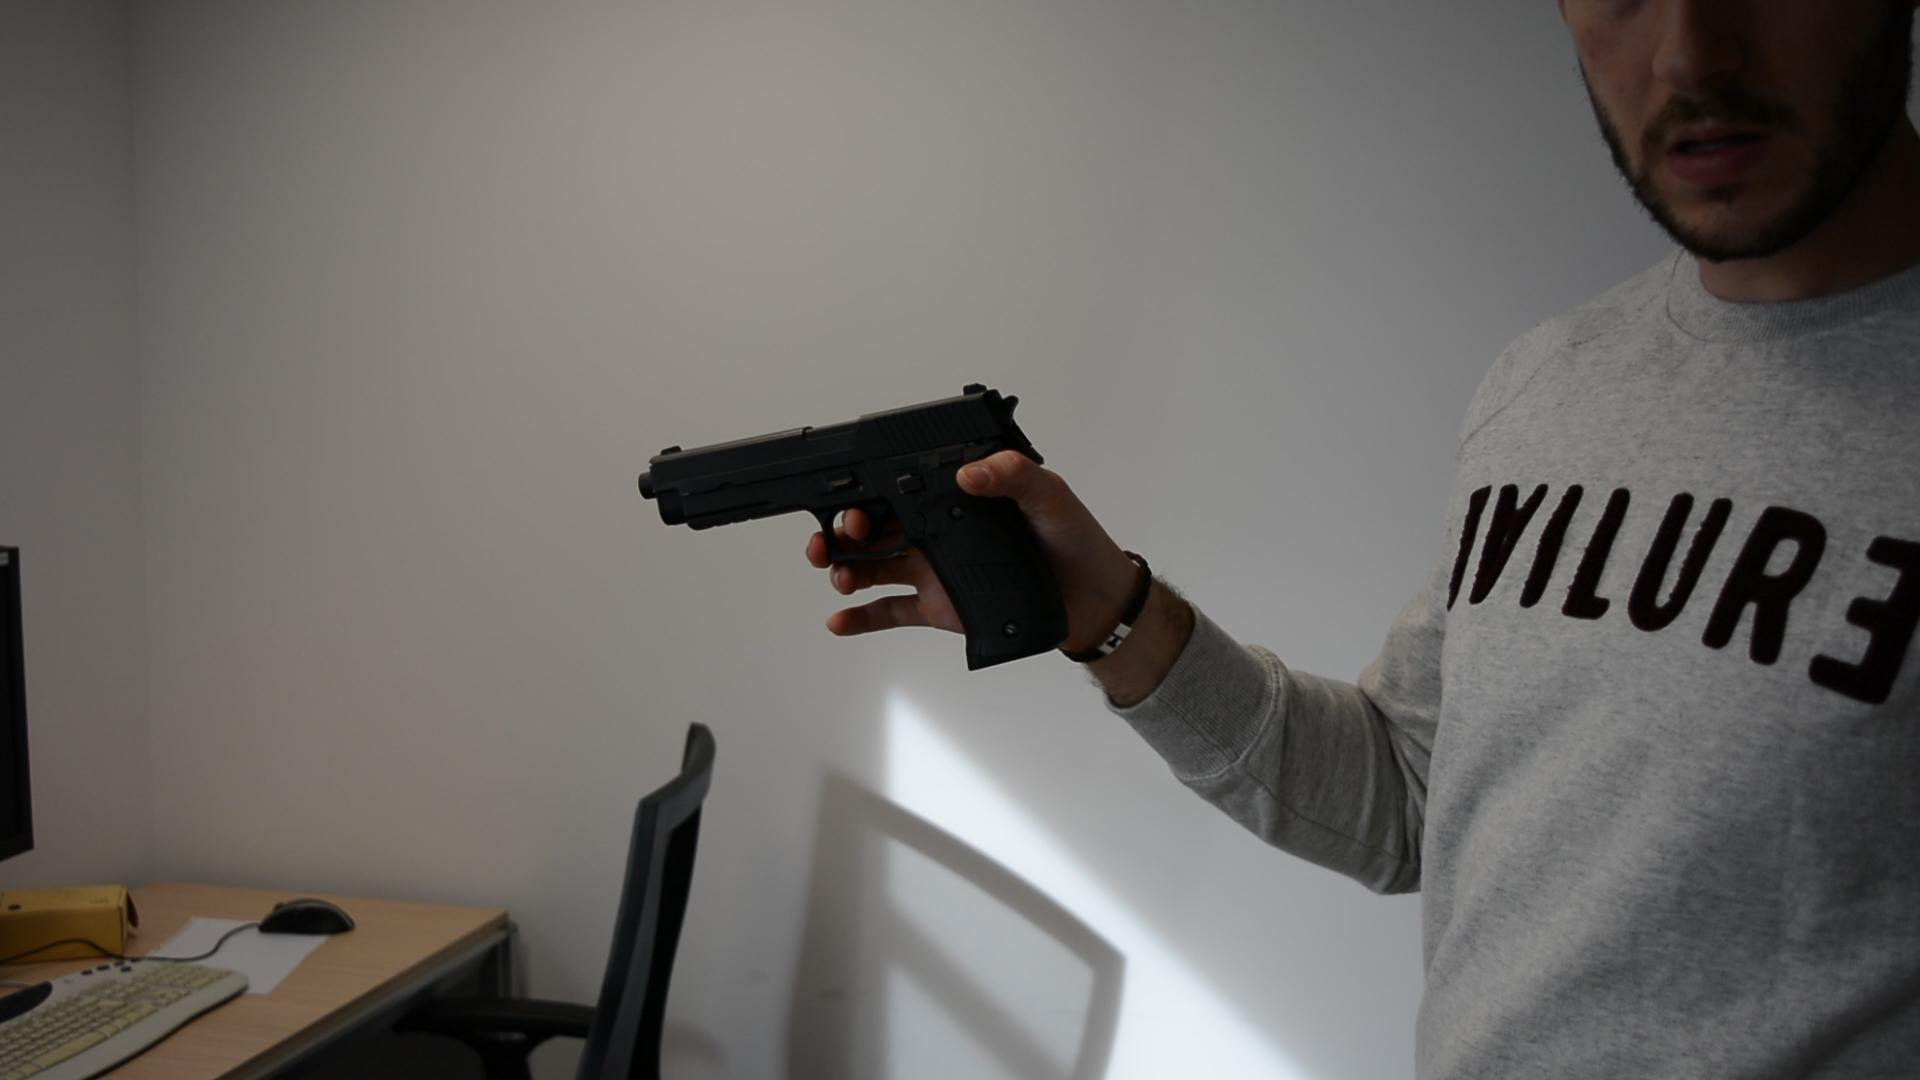criminal: (636, 0, 1920, 1080)
weapon: (636, 380, 1069, 673)
